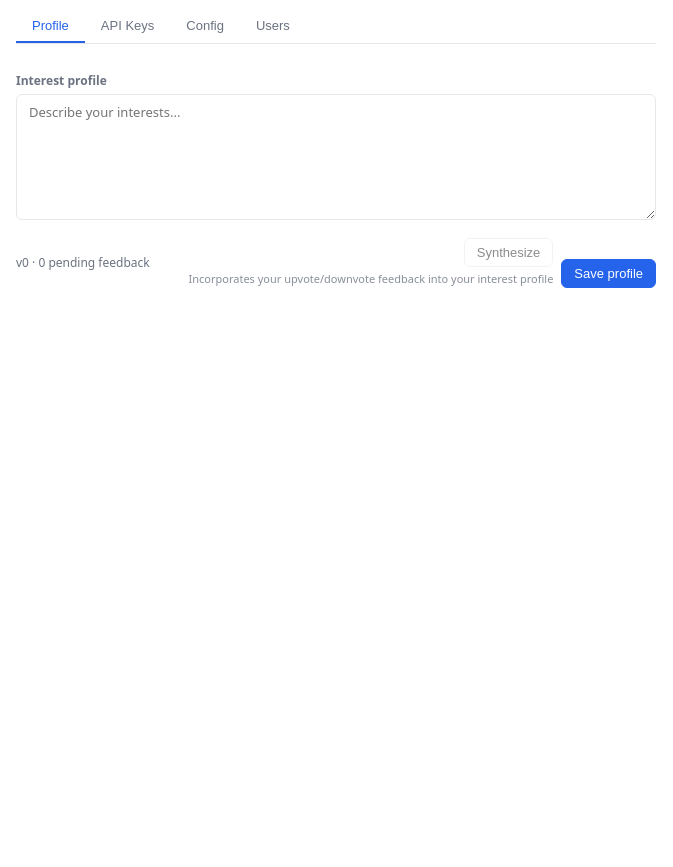
Scenario: SettingsView — config tab › test connection buttons › Test LLM button surfaces failure result
What coordinates should you click on to do the following:
click the button with class "tab" showing "Config"
I would click on:
 (205, 26)
Its box is [170, 10, 240, 43].
(page scrolled)
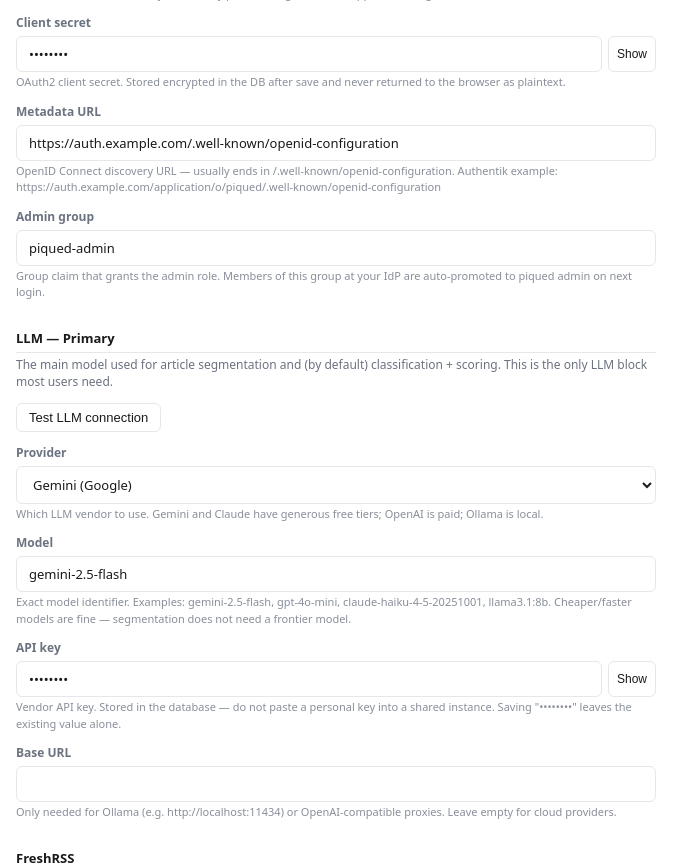
What coordinates should you click on to do the following:
click the button "Test LLM connection"
I would click on:
 (89, 417)
Its box is [16, 403, 161, 432].
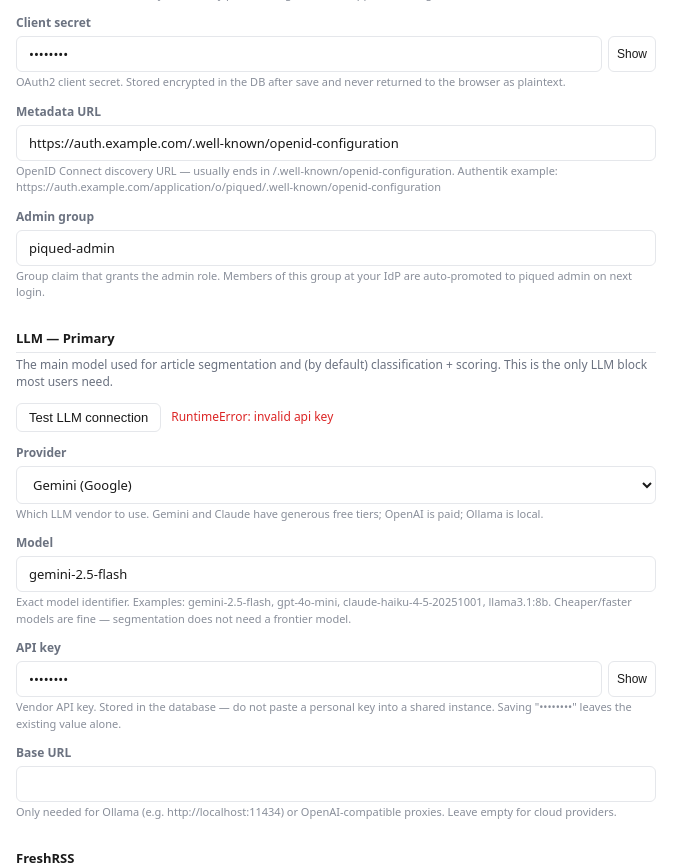
Check: the text with class "test-result--fail" shows "invalid api key", box [171, 408, 333, 425]
